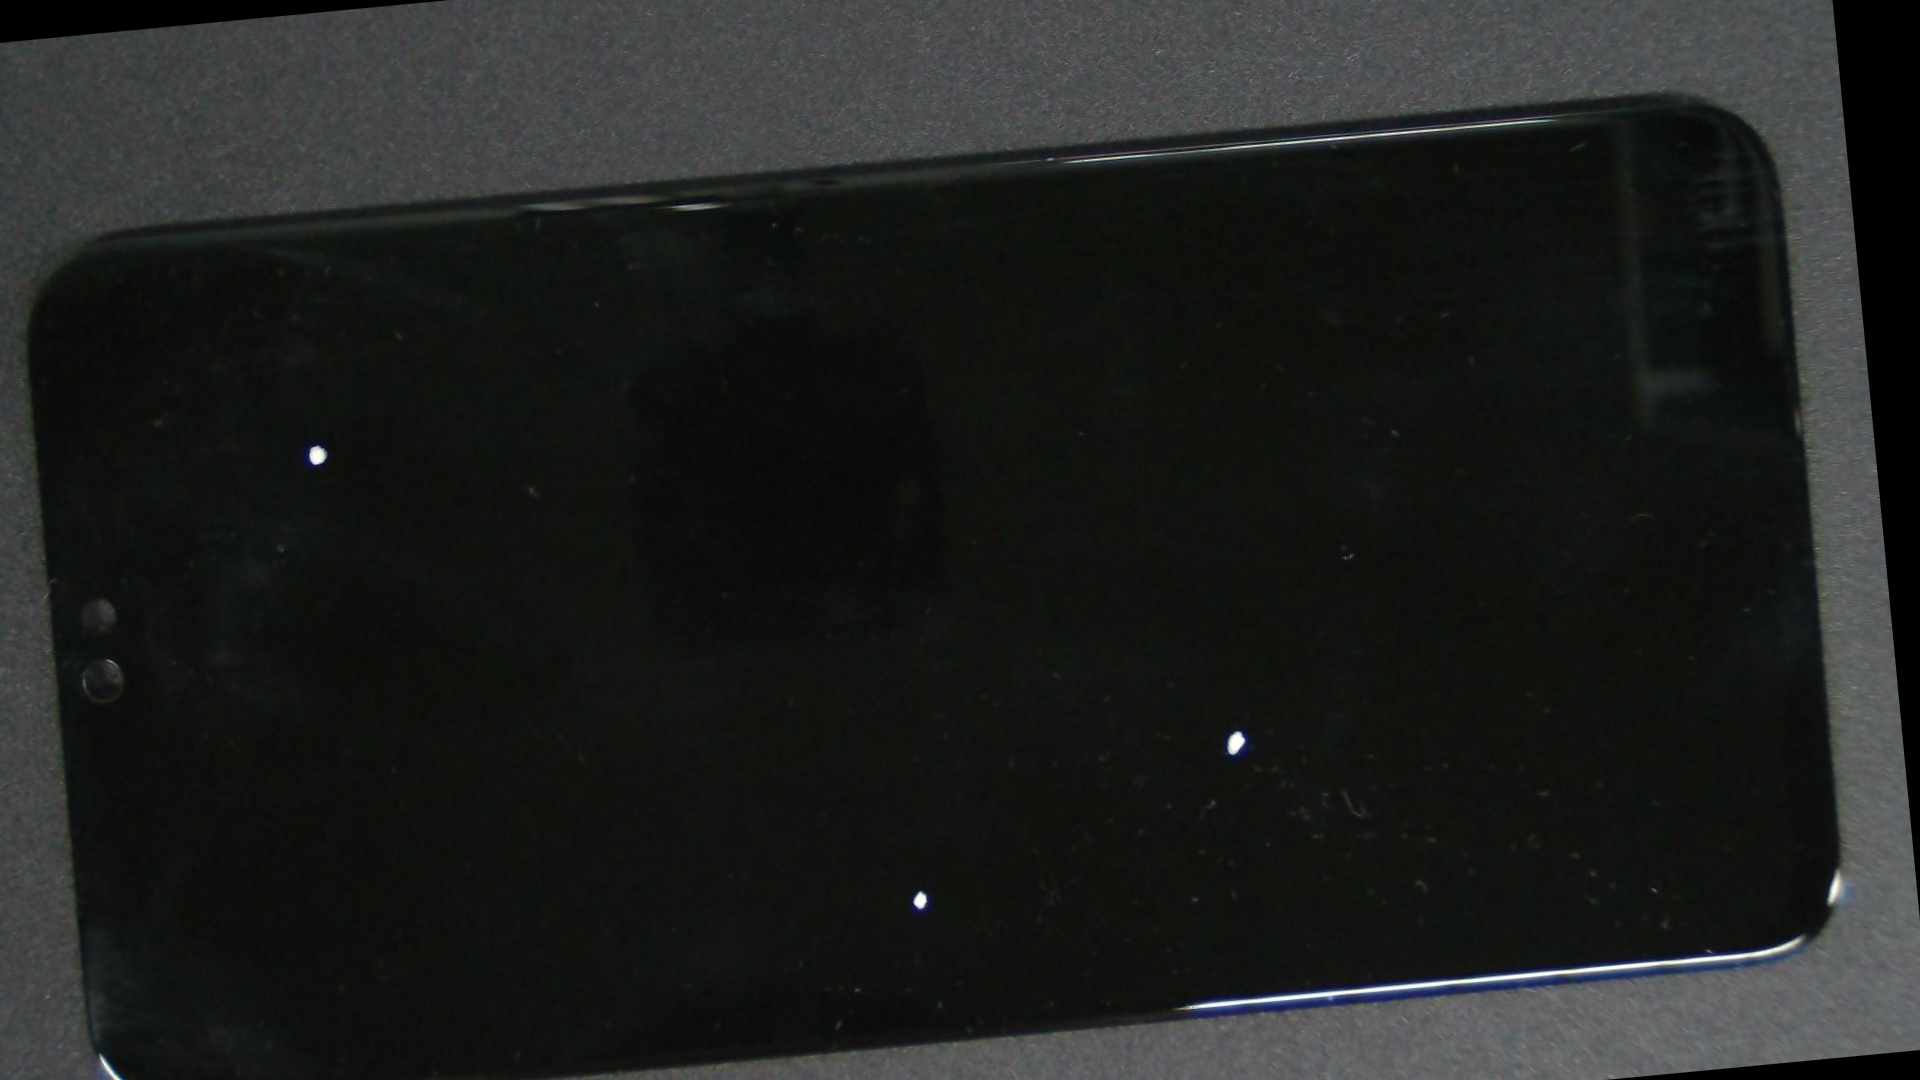oil: (542, 269, 1920, 1080), (385, 378, 1428, 1080), (82, 210, 545, 679)
